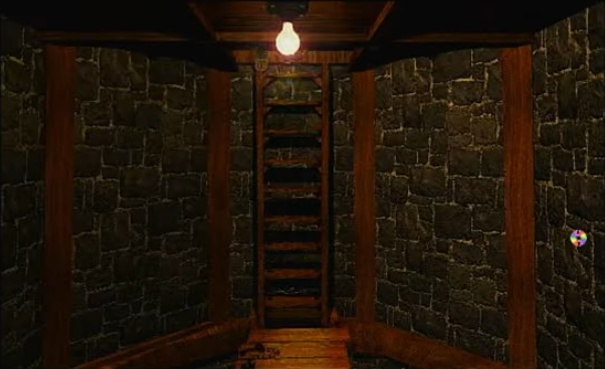Waiting: (567, 227, 590, 248)
